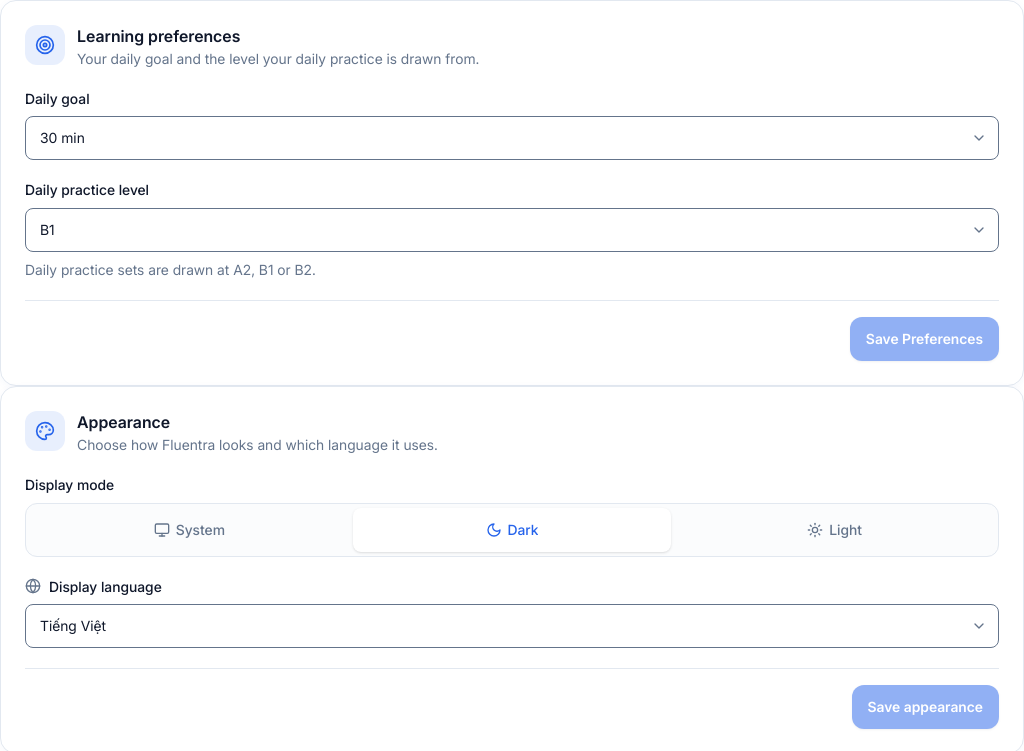
Test: Account Management Settings (P5.2) › PreferencesSettings › updates the study goal
The width and height of the screenshot is (1024, 751).
Step 1. Select "45 min" in the dropdown labelled "Daily goal" → (512, 138), box [25, 116, 999, 160]
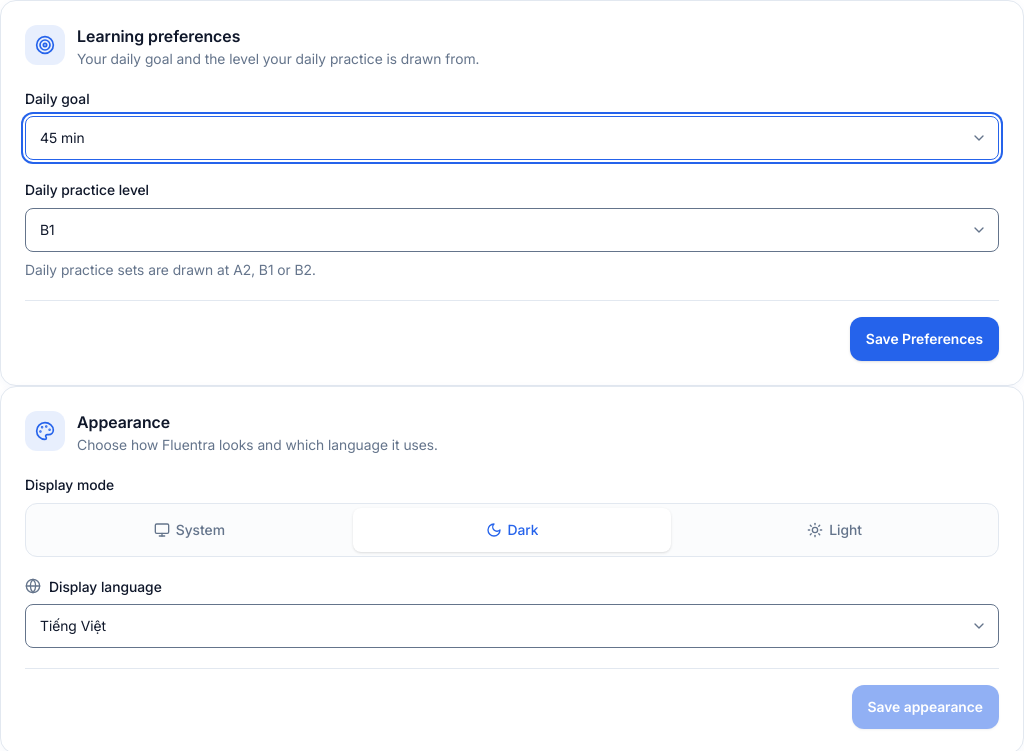
Step 2. Click the button "Save Preferences" → (924, 338), box [850, 316, 999, 360]
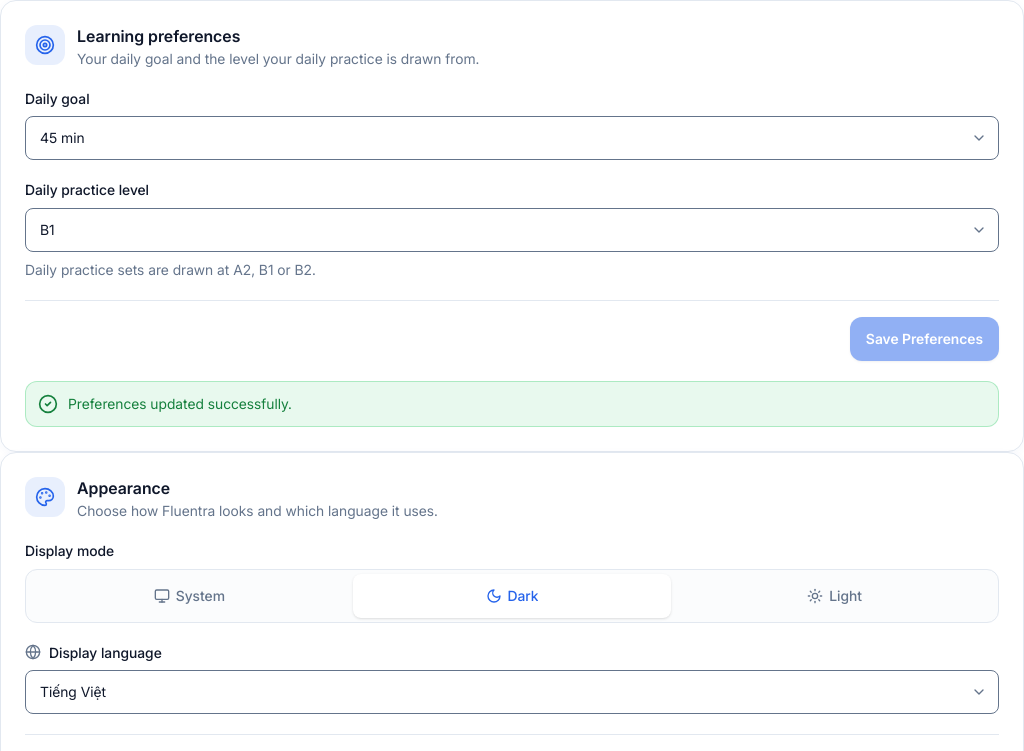
Expected: the text "Preferences updated successfully." is shown, [68, 394, 292, 414]
